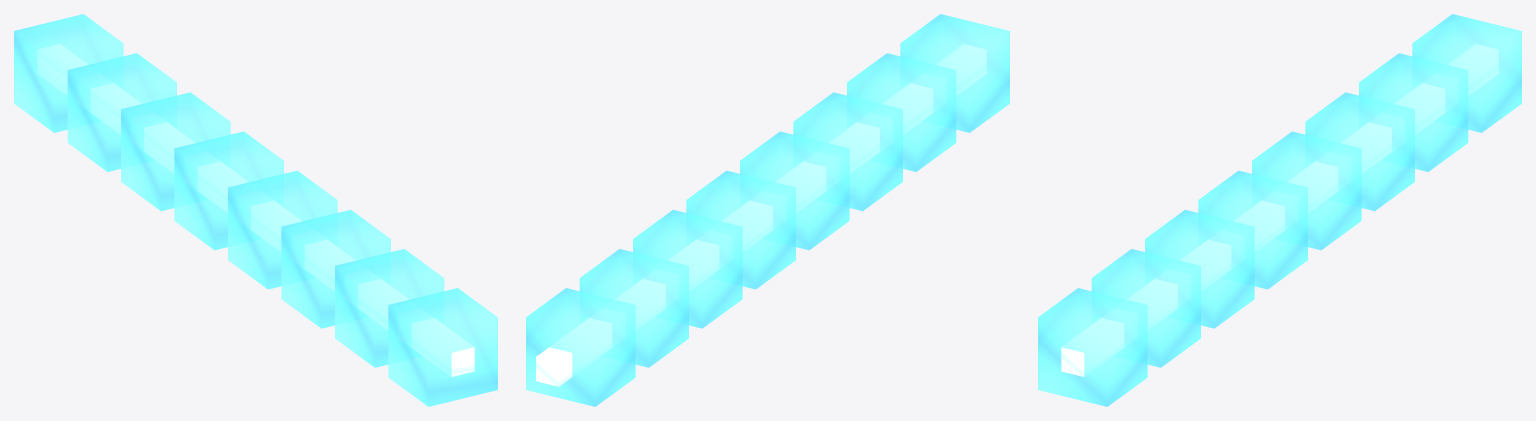
The model's file is beam-lance.glb.
The picture shows the model from 3 angles, left to right: view 1: azimuth 30°, elevation 25°; view 2: azimuth 150°, elevation 25°; view 3: azimuth 330°, elevation 25°; orthographic projection.
Parts seen in each view (by area): view 1: layer.glow, layer.core; view 2: layer.glow, layer.core; view 3: layer.glow, layer.core.
Boxes of the visible parts, box(x1,y1,x2,y2) form: layer.glow: box(14, 14, 497, 406); layer.core: box(37, 44, 474, 376); layer.glow: box(526, 14, 1009, 406); layer.core: box(536, 44, 986, 386); layer.glow: box(1038, 14, 1521, 406); layer.core: box(1061, 44, 1498, 376).
Size of the model in its own units: 0.0938 by 0.0938 by 1.
